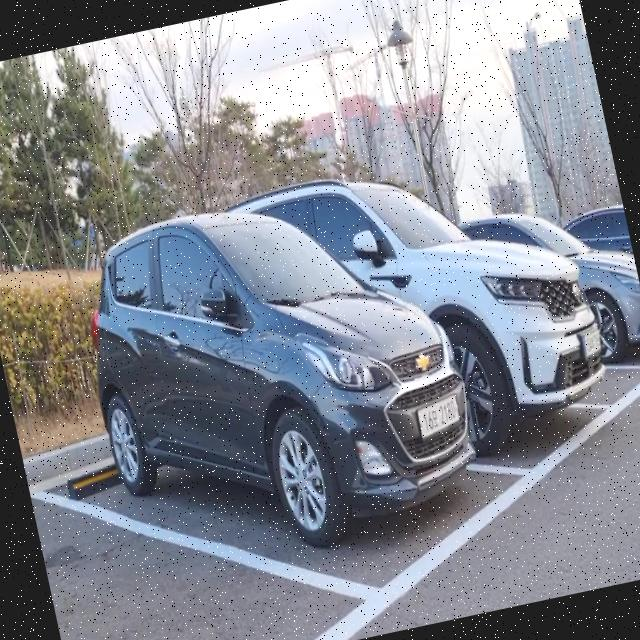occupied: (0, 143, 570, 640), (380, 190, 628, 510)
